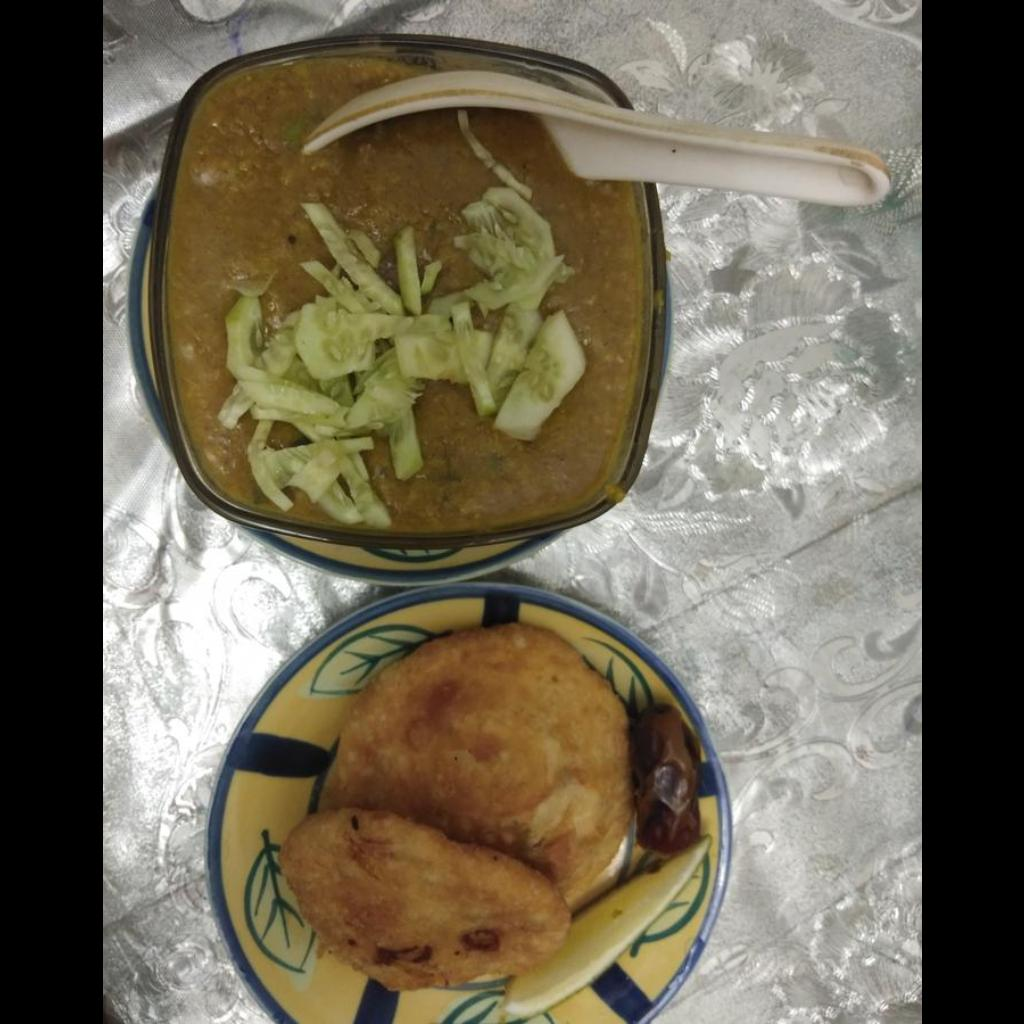daal: (162, 56, 660, 527)
dates: (630, 705, 698, 859)
lemon: (498, 841, 703, 1021)
puri: (281, 632, 628, 1000)
